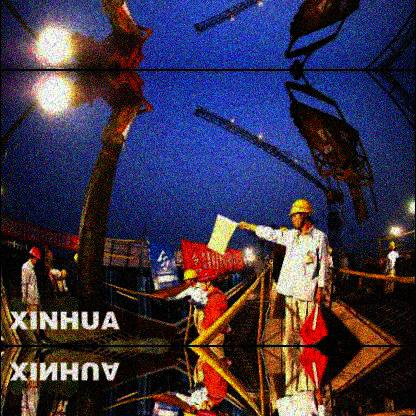helmet: (287, 200, 316, 229), (197, 269, 220, 291), (27, 246, 43, 267), (182, 268, 198, 287)
